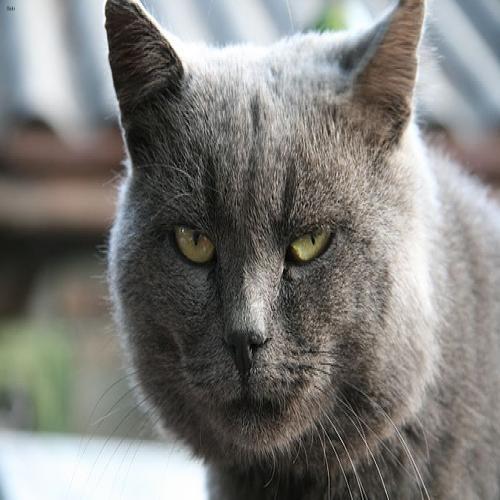rblue: (82, 1, 452, 474)
